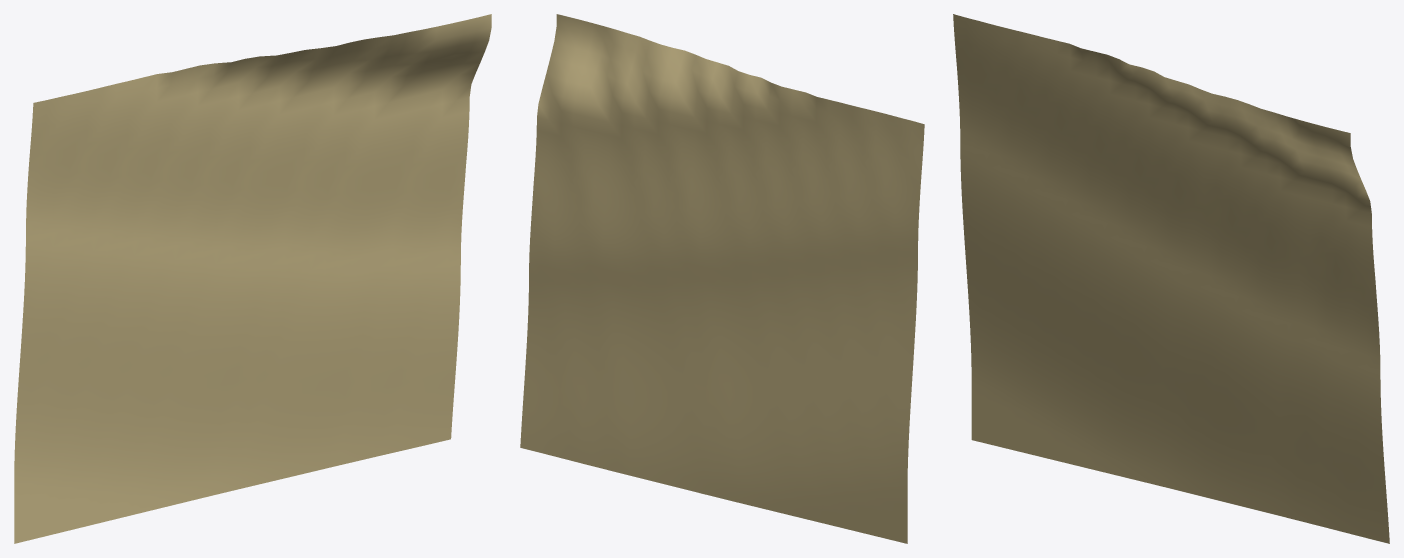
File: island_terrain_28_01.obj
3 views of the same model, side by side, from view 1: azimuth 30°, elevation 25°; view 2: azimuth 150°, elevation 25°; view 3: azimuth 330°, elevation 25° (orthographic). The views are drawn at different scales.
Visible parts, largest first — view 1: island_terrain_28_01; view 2: island_terrain_28_01; view 3: island_terrain_28_01.
Boxes of the visible parts, <box> form: island_terrain_28_01: <box>14,14,491,543</box>; island_terrain_28_01: <box>520,14,924,543</box>; island_terrain_28_01: <box>953,14,1389,543</box>.
Bounding box in the file's own units: 256 × 256 × 43.59.
